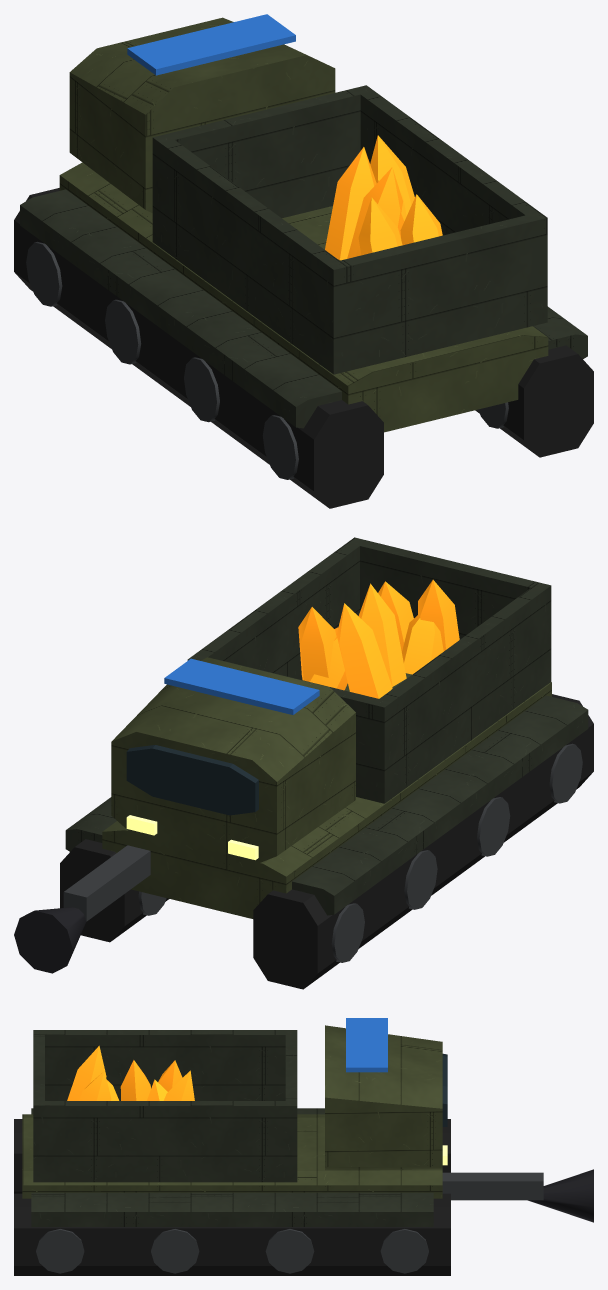
File: militar_coletor.glb
The picture shows the model from 3 angles, top to bottom: view 1: azimuth 30°, elevation 25°; view 2: azimuth 150°, elevation 25°; view 3: azimuth 270°, elevation 25°; orthographic projection. The views are drawn at different scales.
Visible parts, largest first — view 1: Body_HullDark, Body_Hull, Body_Track, Body_Ore, Body_Metal, Body_TeamColor; view 2: Body_HullDark, Body_Hull, Body_Track, Body_Ore, Body_Metal, Body_Glass, Body_TeamColor, Body_Gun, Body_Glow; view 3: Body_HullDark, Body_Hull, Body_Track, Body_Metal, Body_Ore, Body_TeamColor, Body_Gun, Body_Glass.
Part boxes in pixels (x1,y1,x2,y2): Body_HullDark: (20, 85, 587, 428); Body_Hull: (59, 17, 548, 432); Body_Track: (14, 188, 593, 508); Body_Ore: (325, 135, 442, 260); Body_Metal: (26, 241, 508, 479); Body_TeamColor: (127, 14, 295, 75); Body_HullDark: (65, 537, 588, 915); Body_Hull: (102, 657, 551, 918); Body_Track: (60, 694, 593, 989); Body_Ore: (298, 579, 459, 698); Body_Metal: (63, 743, 582, 962); Body_Glass: (126, 745, 258, 815); Body_TeamColor: (164, 658, 319, 714); Body_Gun: (14, 907, 86, 973); Body_Glow: (126, 815, 258, 860); Body_HullDark: (31, 1030, 433, 1226); Body_Hull: (22, 1025, 442, 1198); Body_Track: (14, 1119, 450, 1275); Body_Metal: (36, 1172, 543, 1273); Body_Ore: (67, 1045, 194, 1100); Body_TeamColor: (346, 1018, 387, 1072); Body_Gun: (528, 1169, 593, 1222); Body_Glass: (442, 1053, 447, 1126).
Bounding box in the file's own units: 2.92 × 2.48 × 6.9.
Materials: 9 (2 with a texture image).
